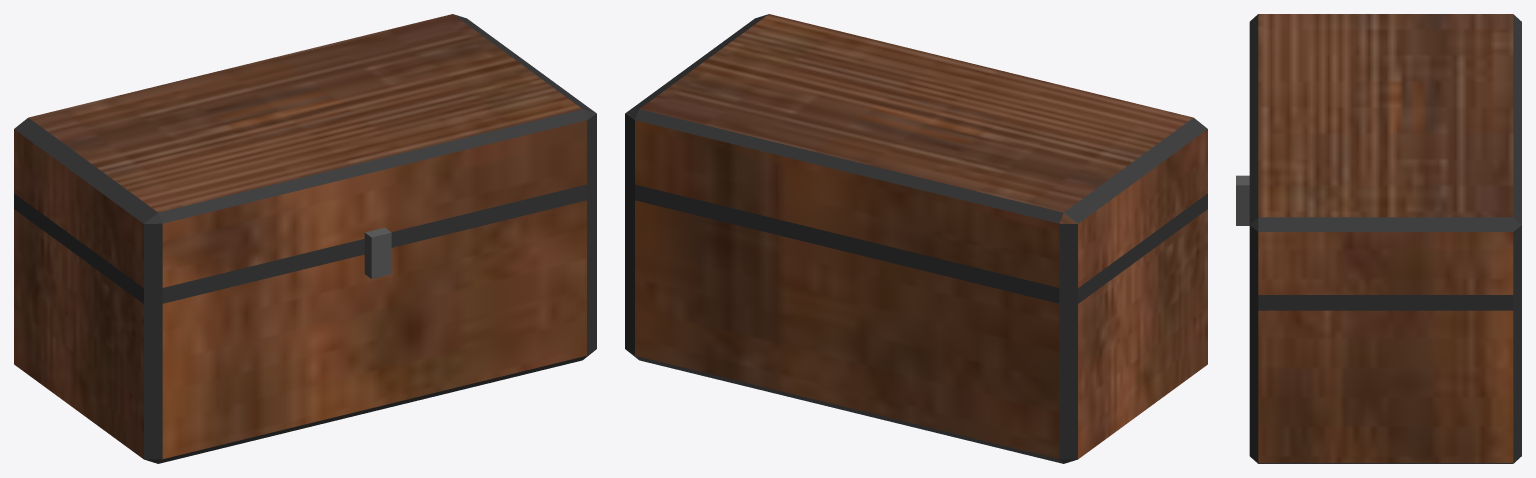
File: Chest (1).fbx
3 views of the same model, side by side, from view 1: azimuth 30°, elevation 25°; view 2: azimuth 150°, elevation 25°; view 3: azimuth 270°, elevation 25° (orthographic).
Parts seen in each view (by area): view 1: Cube.001; view 2: Cube.001; view 3: Cube.001.
Boxes of the visible parts, x1,y1,x2,y2 form: Cube.001: (14, 14, 596, 463); Cube.001: (625, 14, 1207, 463); Cube.001: (1236, 14, 1521, 463).
Bounding box in the file's own units: 377 × 200 × 210.
3 materials, 1 textured.
